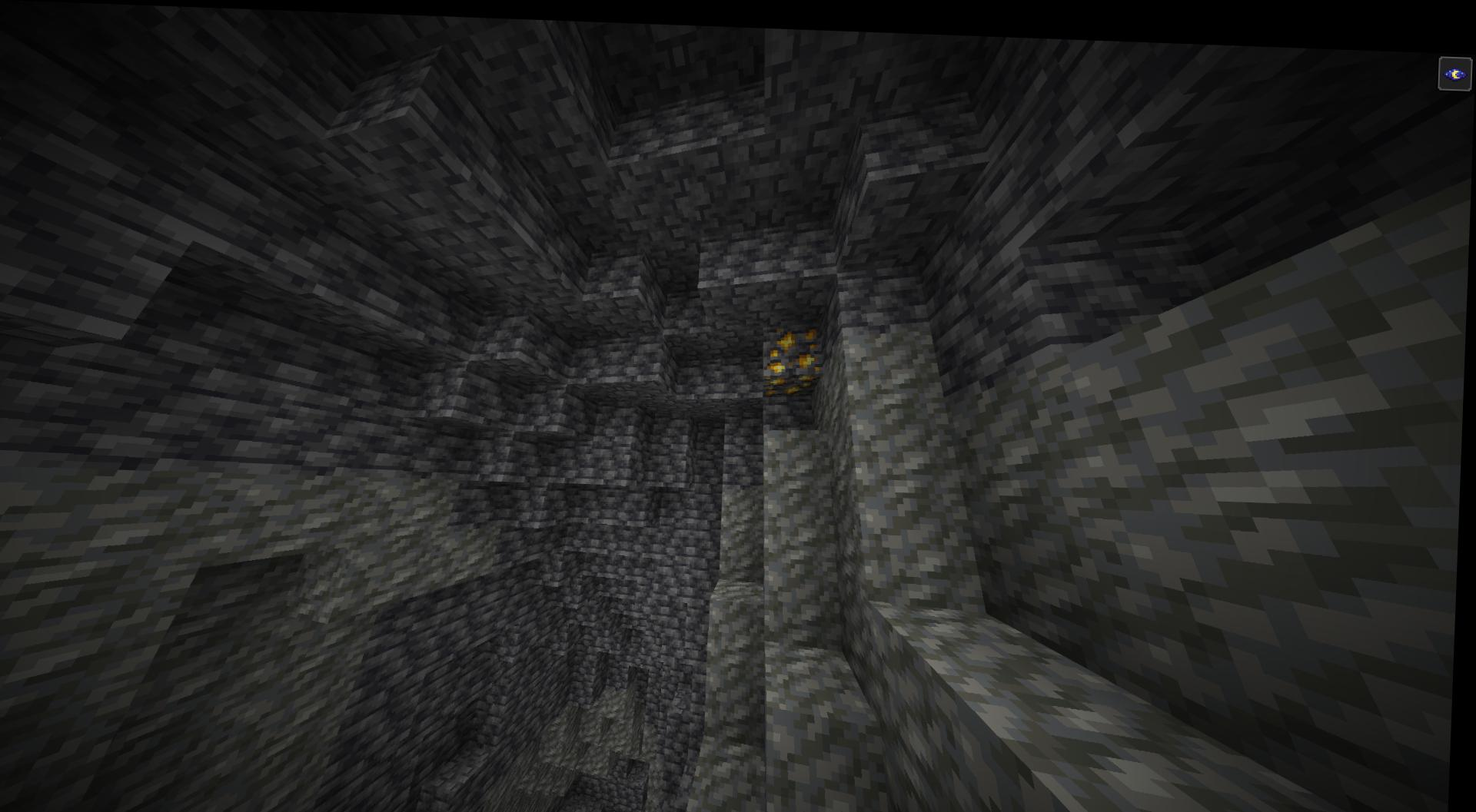gold ore: (769, 319, 827, 370), (768, 366, 824, 393)
